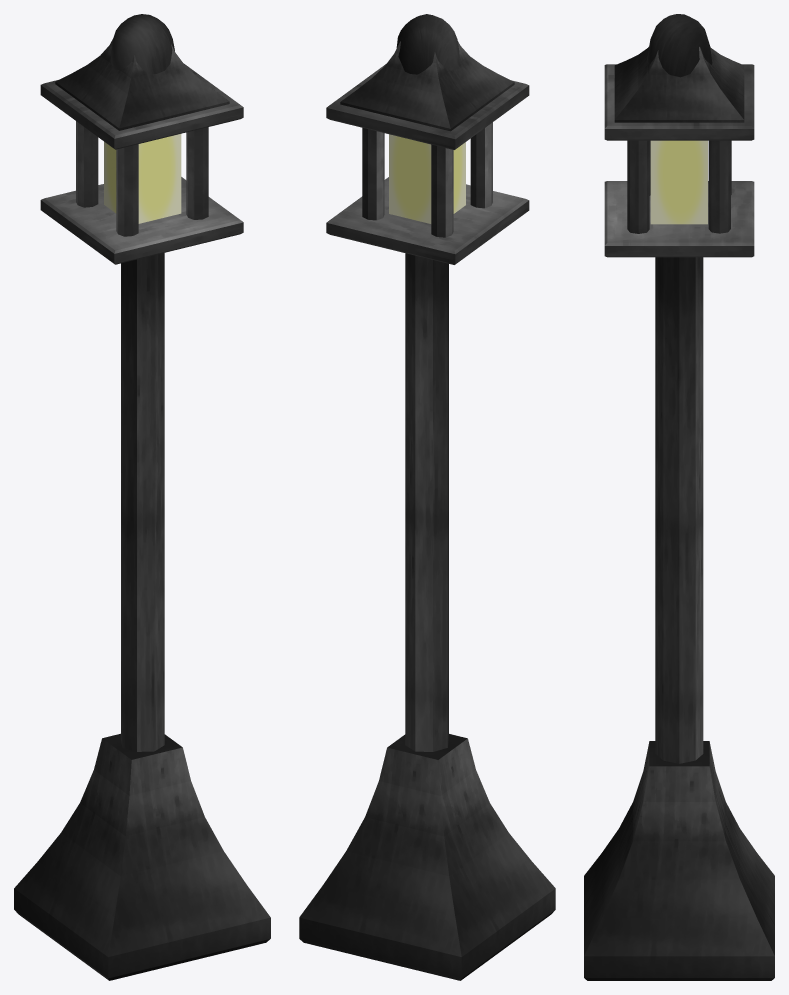
The model's file is lamppost.fbx.
The picture shows the model from 3 angles, left to right: view 1: azimuth 30°, elevation 25°; view 2: azimuth 150°, elevation 25°; view 3: azimuth 270°, elevation 25°; orthographic projection.
Parts seen in each view (by area): view 1: prop_lamppost; view 2: prop_lamppost; view 3: prop_lamppost.
Boxes of the visible parts, bbox=[...] form: prop_lamppost: bbox=[14, 14, 270, 980]; prop_lamppost: bbox=[299, 14, 555, 980]; prop_lamppost: bbox=[584, 14, 774, 980].
Size of the model in its own units: 996 by 5340 by 998.
Materials: 2 (2 with a texture image).
